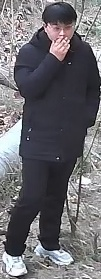smoking: (16, 4, 82, 96)
